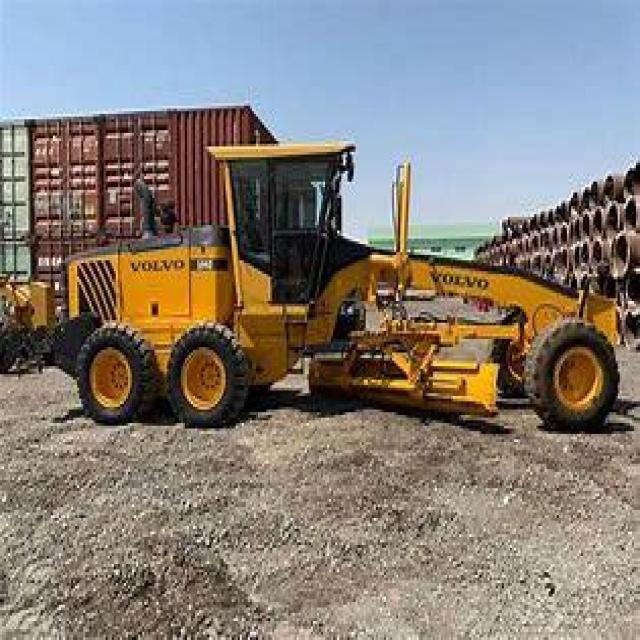Grader: (40, 124, 628, 444)
